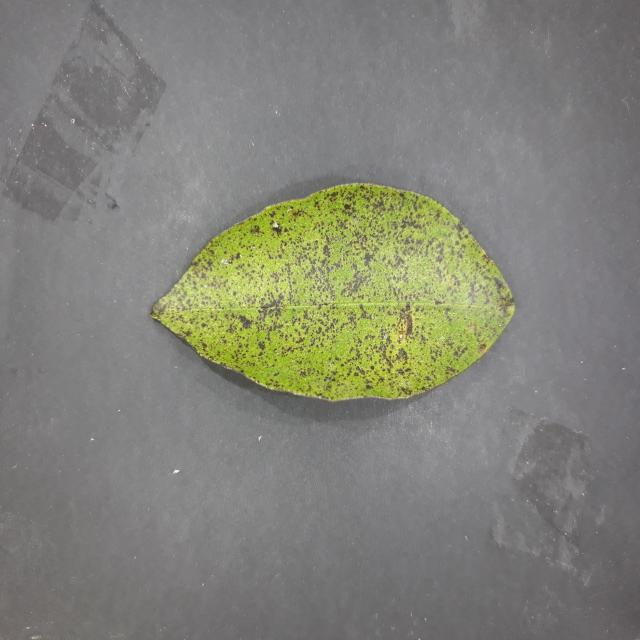greasy_spot: (151, 184, 514, 399)
